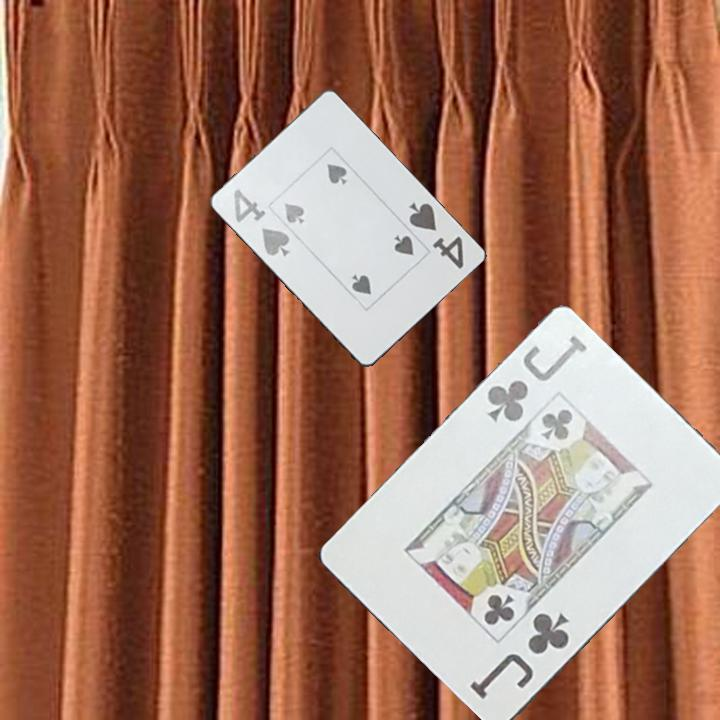4s: (229, 185, 293, 259), (406, 196, 467, 272)
Jc: (483, 332, 591, 427), (466, 609, 573, 703)
